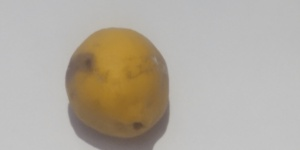BAD: (67, 24, 170, 139)
